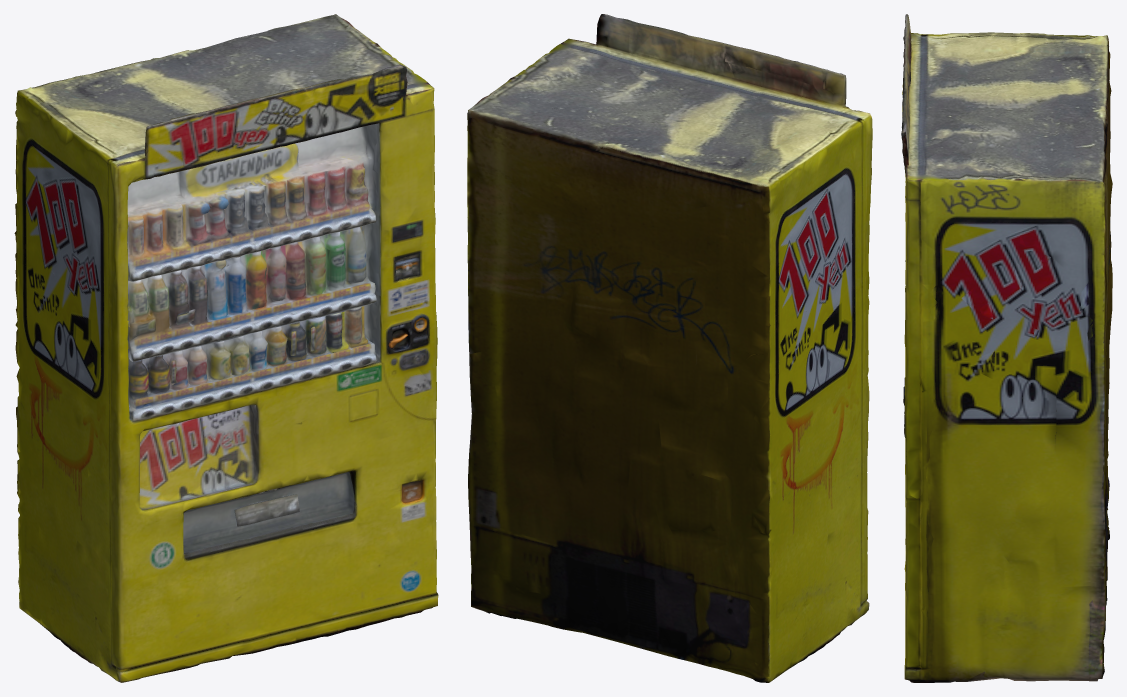
3 views of the same model, side by side, from view 1: azimuth 30°, elevation 25°; view 2: azimuth 150°, elevation 25°; view 3: azimuth 270°, elevation 25° (orthographic). The views are drawn at different scales.
Parts seen in each view (by area): view 1: Object_2, Object_3; view 2: Object_2; view 3: Object_2.
Boxes of the visible parts, x1,y1,x2,y2 form: Object_2: [14, 14, 438, 682]; Object_3: [128, 124, 380, 552]; Object_2: [467, 14, 872, 682]; Object_2: [901, 14, 1112, 682].
Bounding box in the file's own units: 1.22 × 1.99 × 0.7109.
2 materials, 1 textured.
